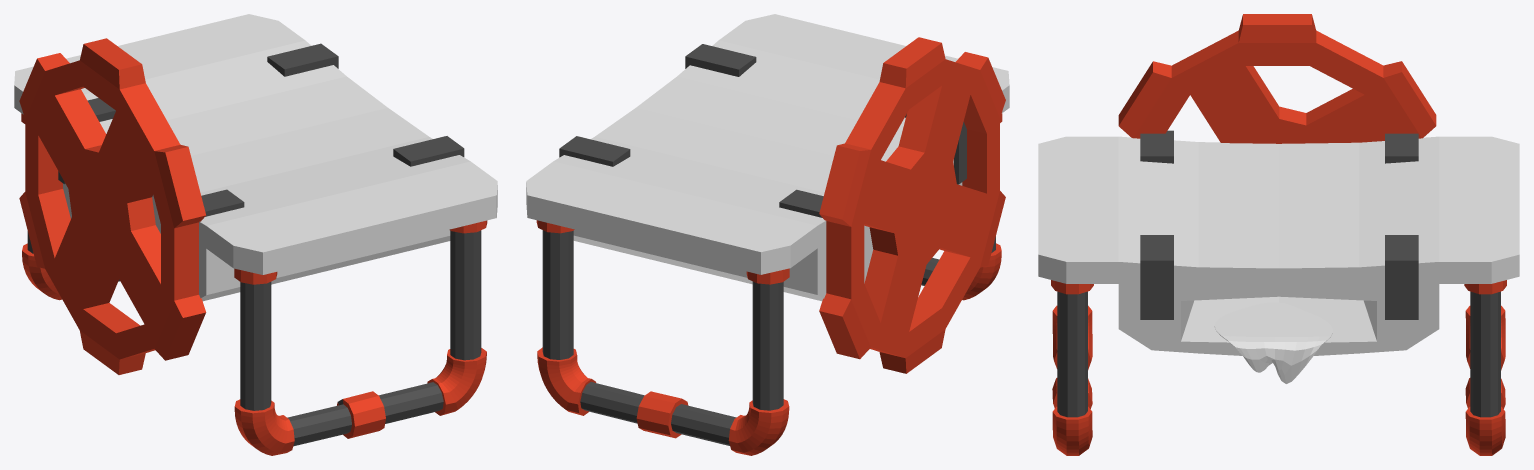
File: Steampunk Table.fbx
The picture shows the model from 3 angles, left to right: view 1: azimuth 30°, elevation 25°; view 2: azimuth 150°, elevation 25°; view 3: azimuth 270°, elevation 25°; orthographic projection. The views are drawn at different scales.
Parts seen in each view (by area): view 1: Table top, cog1, Table legs; view 2: Table top, cog1, Table legs; view 3: Table top, cog1, Table legs, drip.
Boxes of the visible parts, left/top/right/bottom form: Table top: left=14, top=14, right=497, bottom=301; cog1: left=19, top=38, right=206, bottom=374; Table legs: left=21, top=113, right=487, bottom=455; Table top: left=526, top=14, right=1009, bottom=301; cog1: left=819, top=37, right=1005, bottom=373; Table legs: left=536, top=113, right=1002, bottom=455; Table top: left=1038, top=130, right=1519, bottom=355; cog1: left=1118, top=14, right=1436, bottom=143; Table legs: left=1051, top=280, right=1506, bottom=455; drip: left=1214, top=302, right=1332, bottom=383.
Size of the model in its own units: 607 by 653 by 872.
